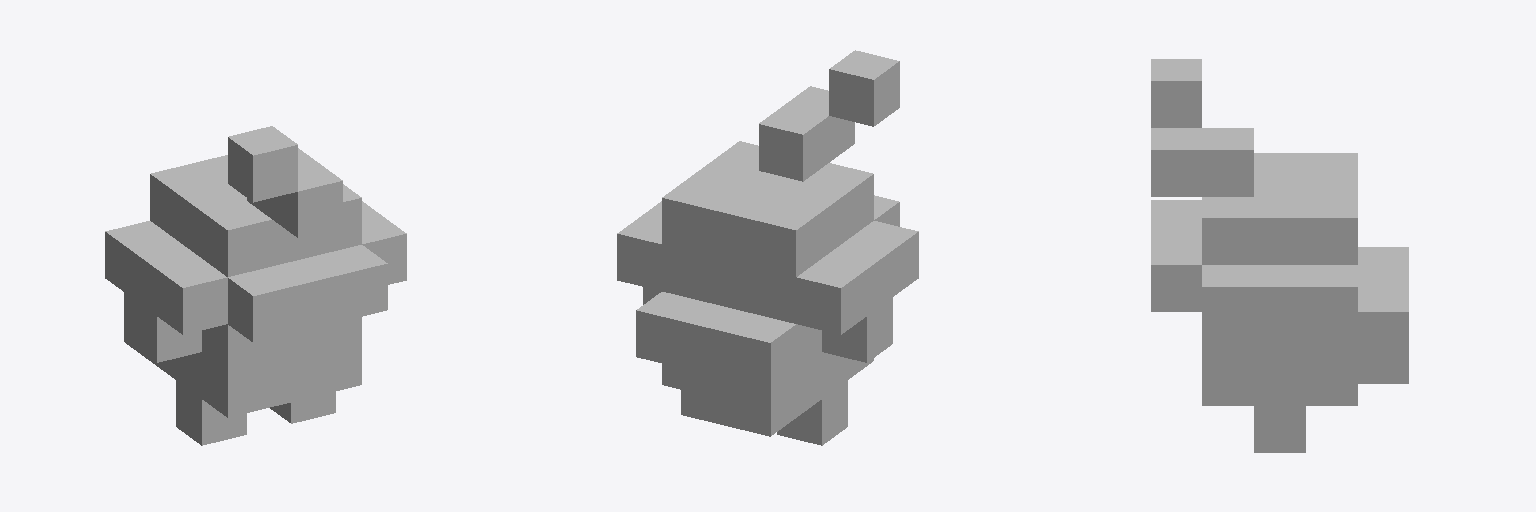
The model's file is GnomeOhaha.obj.
The picture shows the model from 3 angles: view 1: azimuth 30°, elevation 25°; view 2: azimuth 150°, elevation 25°; view 3: azimuth 270°, elevation 25°; orthographic projection.
Parts seen in each view (by area): view 1: GnomeOhaha; view 2: GnomeOhaha; view 3: GnomeOhaha.
Part boxes in pixels (x1,y1,x2,y2): GnomeOhaha: (105, 126, 406, 445); GnomeOhaha: (617, 50, 918, 445); GnomeOhaha: (1151, 59, 1408, 452).
Size of the model in its own units: 0.5 by 0.7 by 0.5.